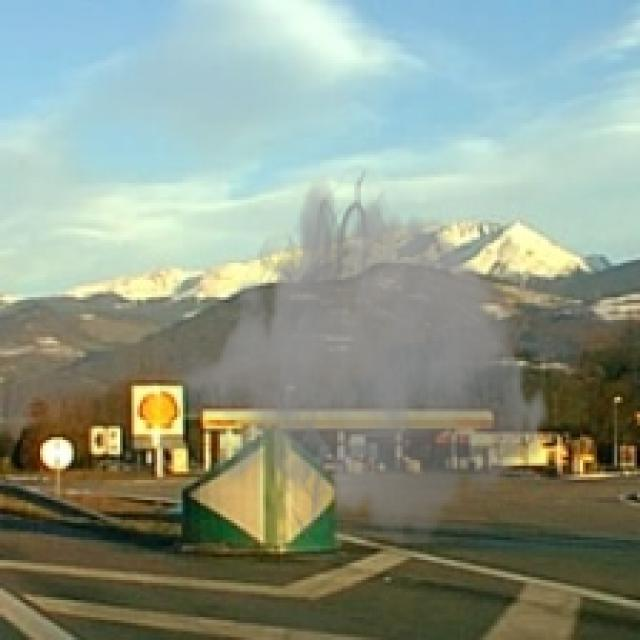smoke: (177, 163, 552, 580)
